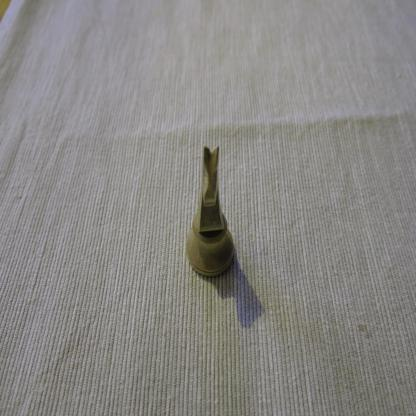white-knight: (185, 145, 234, 278)
